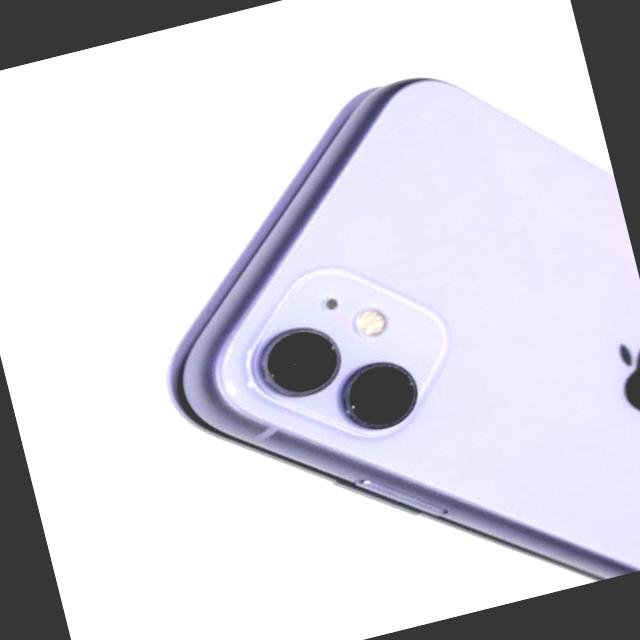lens_back: (329, 351, 428, 438), (252, 317, 347, 404)
phone: (113, 33, 640, 640)
